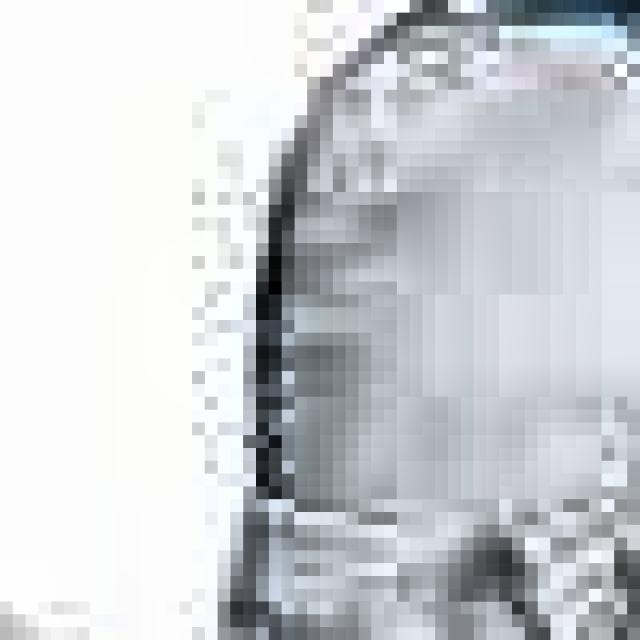plastic: (230, 0, 640, 640)
